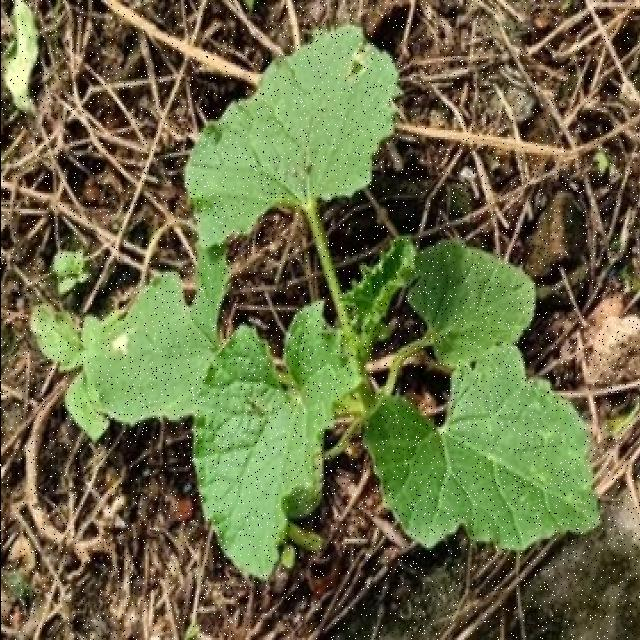plant: (31, 27, 598, 576)
